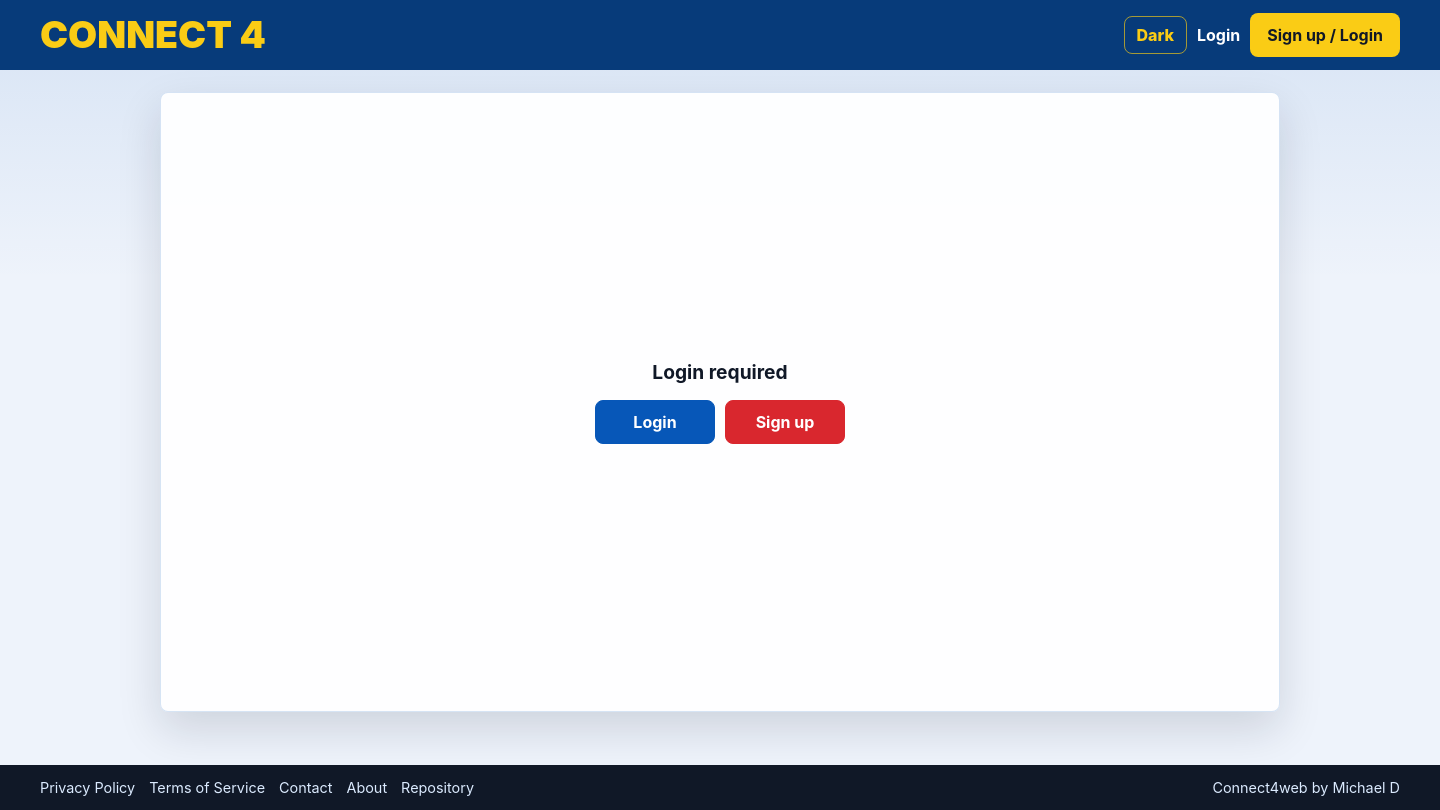
Scenario: application behavior › navigates to login and traps modal focus until Escape closes it
Click the button "Login": [655, 422] box [595, 400, 715, 444]
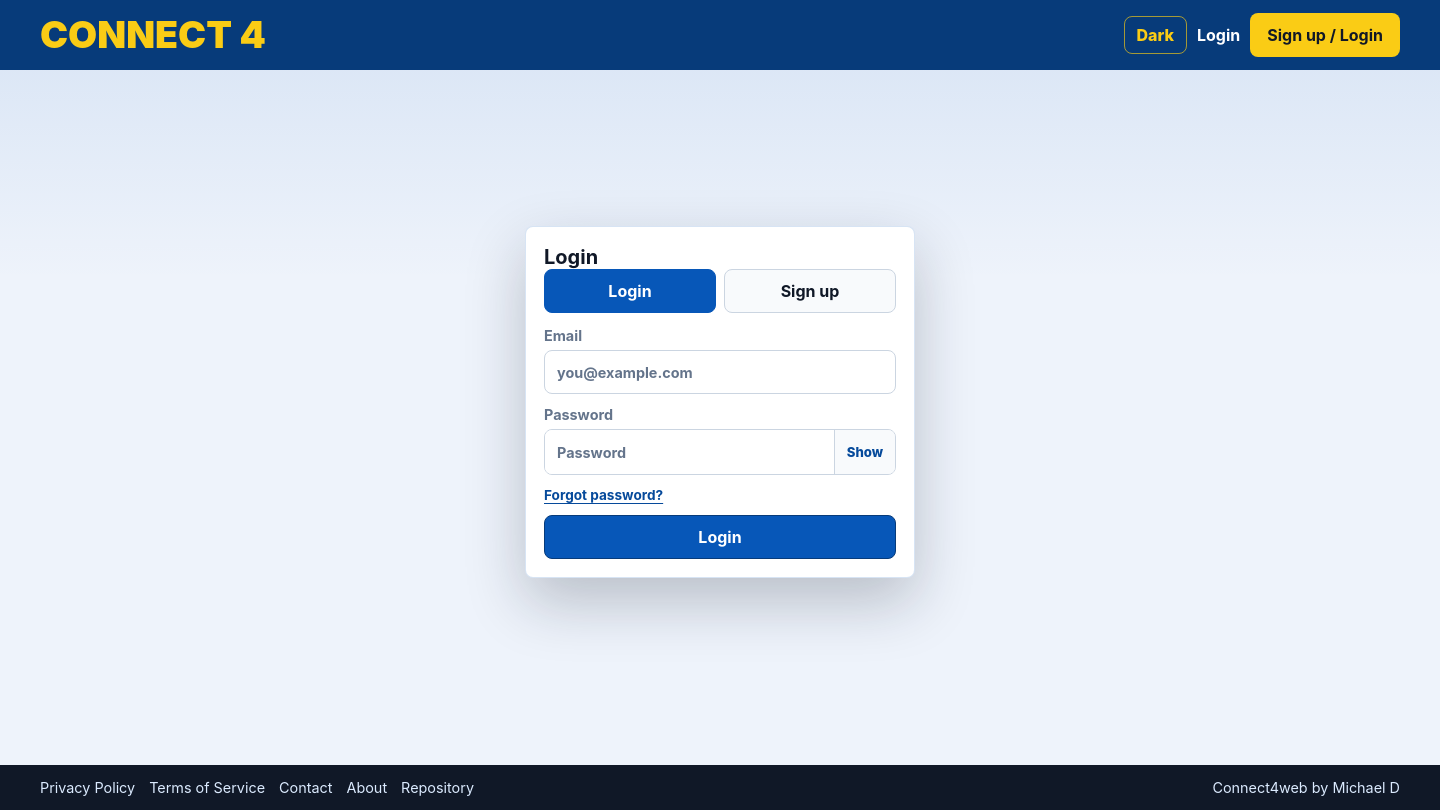
Expected: the heading "Login" is shown, [544, 245, 598, 269]
Click the button "Sign up / Login": [1325, 35] box [1250, 13, 1400, 57]
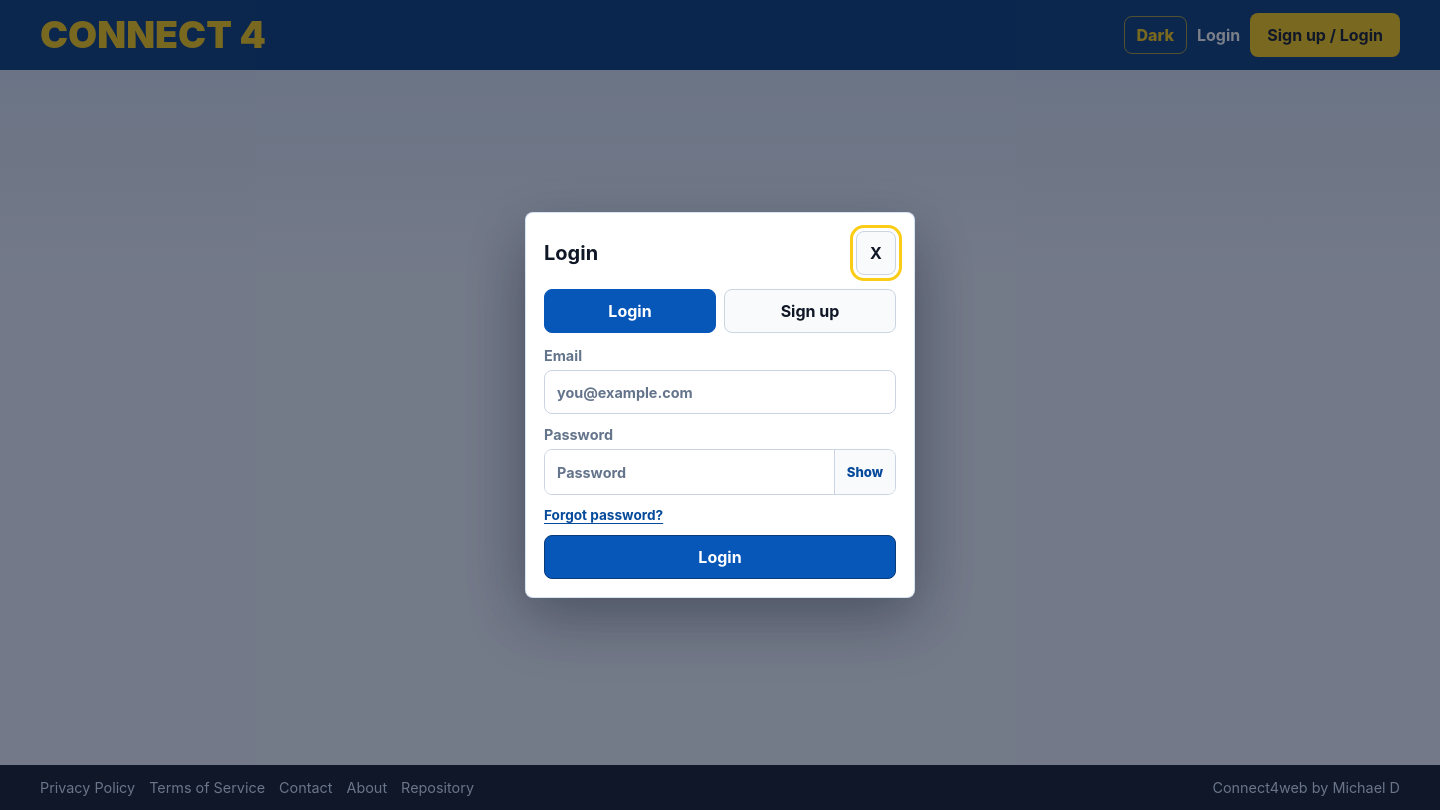
Expected: the dialog "Login" is shown, [525, 212, 915, 598]
Press Escape
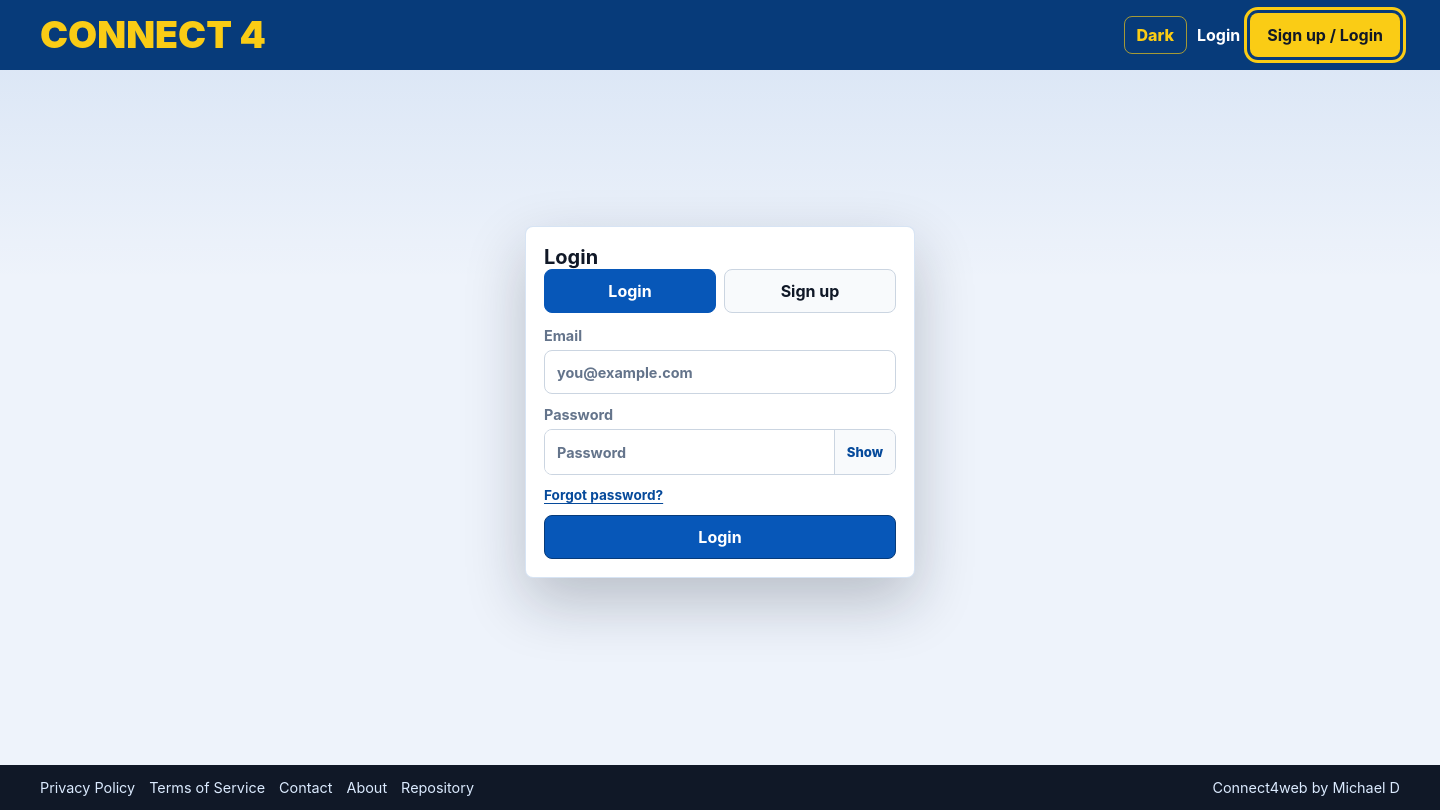
Expected: the dialog is gone
